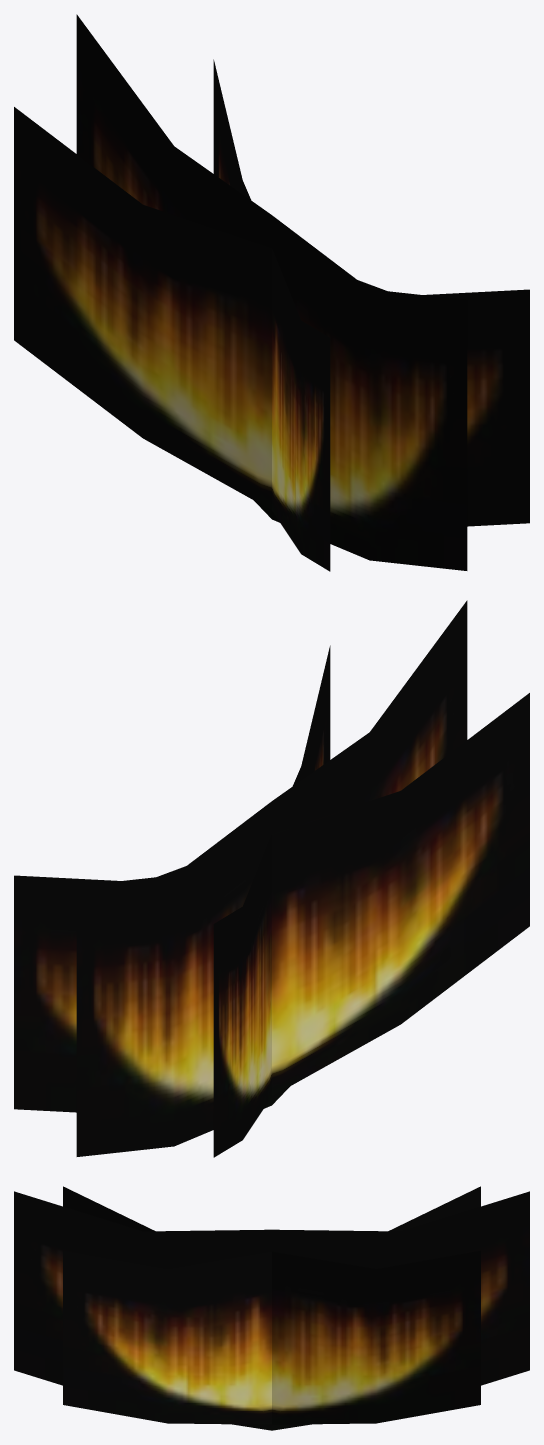
Rendered from SwordForce.glb.
3 renders of one model, top to bottom at view 1: azimuth 30°, elevation 25°; view 2: azimuth 150°, elevation 25°; view 3: azimuth 270°, elevation 25°, orthographic. The views are drawn at different scales.
Parts seen in each view (by area): view 1: model_SwordForce; view 2: model_SwordForce; view 3: model_SwordForce.
Part boxes in pixels (x1,y1,x2,y2): model_SwordForce: (14, 14, 529, 571); model_SwordForce: (14, 600, 529, 1157); model_SwordForce: (14, 1186, 529, 1430).
Size of the model in its own units: 0.4528 by 0.7861 by 1.54.
Materials: 1 (1 with a texture image).
